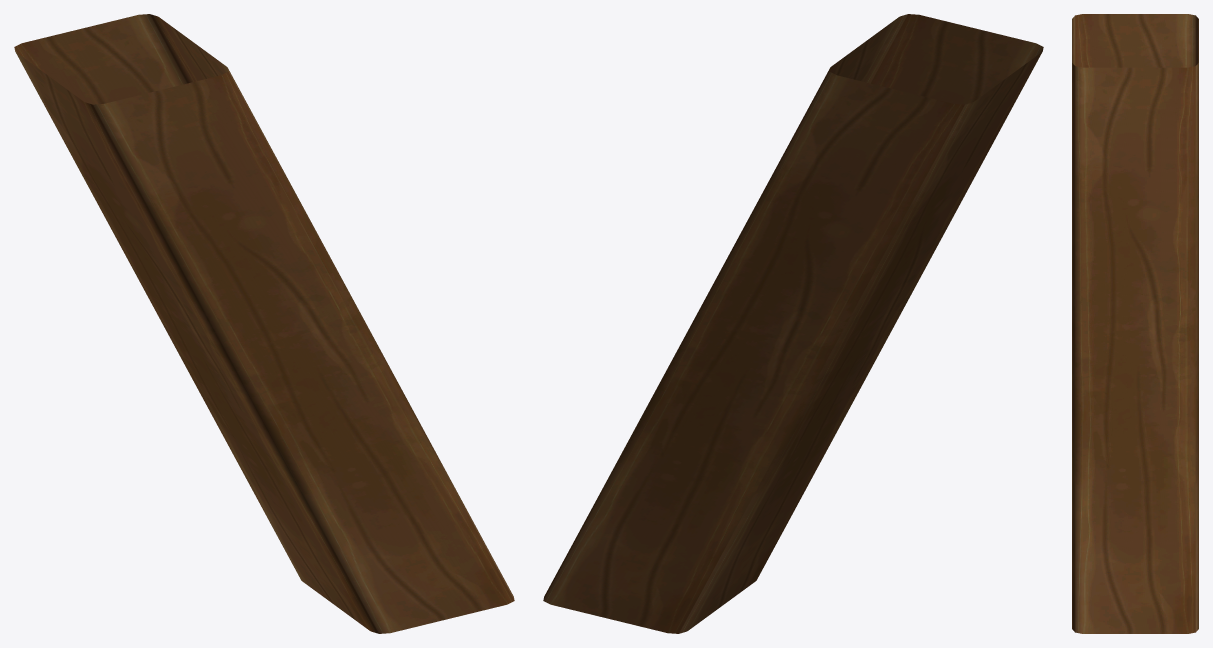
Rendered from SM_VerticalColumn_Diagonal_01.gltf.
3 renders of one model, left to right at view 1: azimuth 30°, elevation 25°; view 2: azimuth 150°, elevation 25°; view 3: azimuth 270°, elevation 25°, orthographic. The views are drawn at different scales.
Parts seen in each view (by area): view 1: SM_Roof_Column_01; view 2: SM_Roof_Column_01; view 3: SM_Roof_Column_01.
Part boxes in pixels (left/top/right/bottom): SM_Roof_Column_01: left=14, top=14, right=514, bottom=633; SM_Roof_Column_01: left=543, top=14, right=1043, bottom=633; SM_Roof_Column_01: left=1072, top=14, right=1198, bottom=633.
Size of the model in its own units: 3 by 4 by 1.
Materials: 1 (1 with a texture image).
